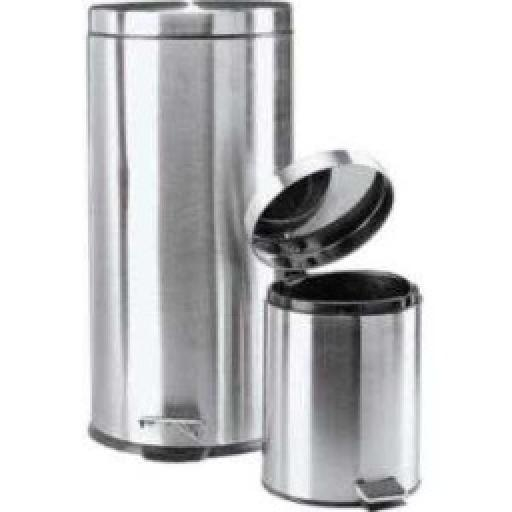trash-can: (242, 140, 434, 512)
